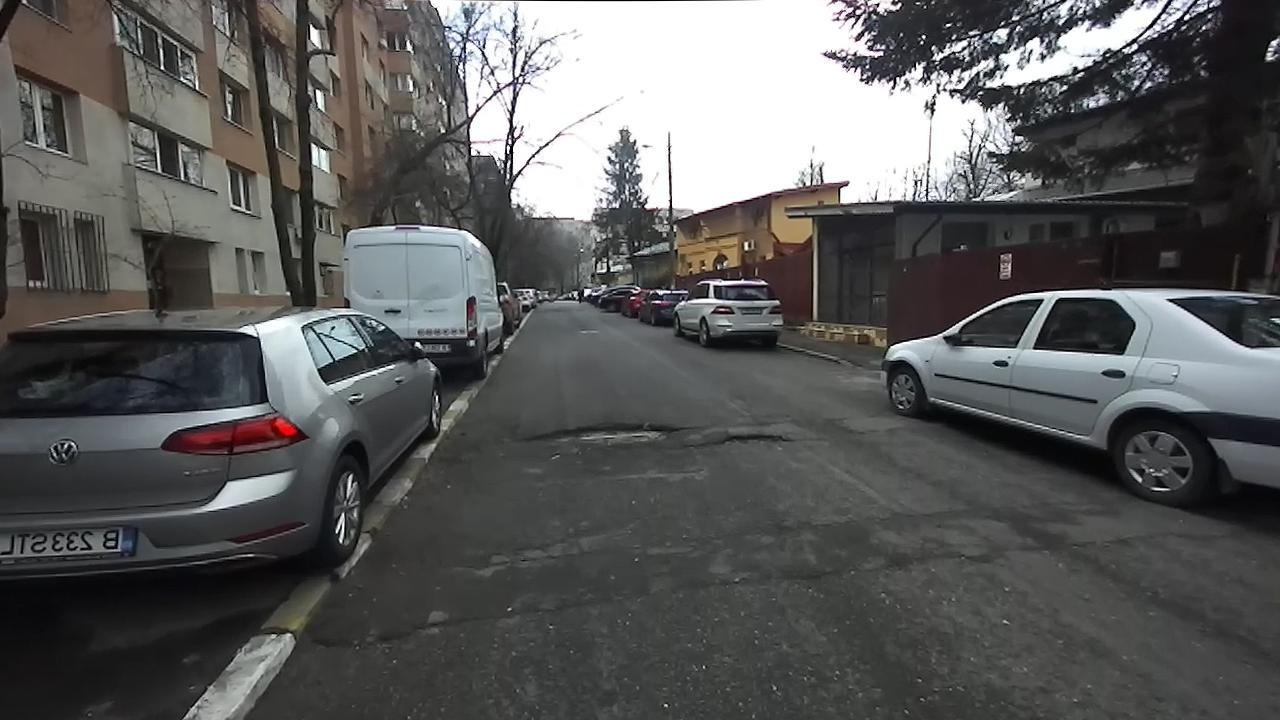pothole: (512, 421, 692, 459), (702, 426, 795, 451)
